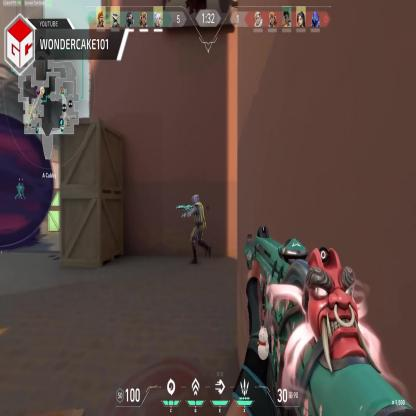enemy: (189, 191, 211, 266)
enemy_head: (192, 194, 198, 204)
